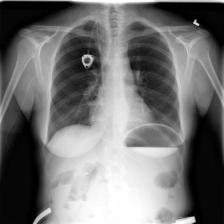normal: (44, 14, 189, 151)
